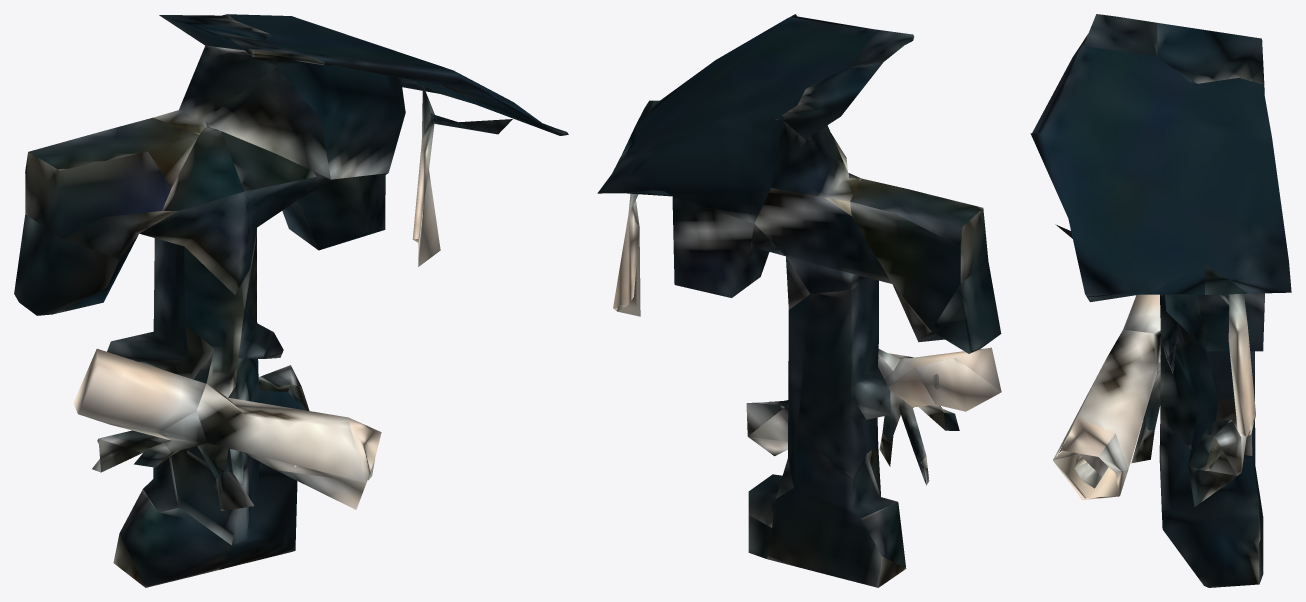
The picture shows the model from 3 angles, left to right: view 1: azimuth 30°, elevation 25°; view 2: azimuth 150°, elevation 25°; view 3: azimuth 270°, elevation 25°; orthographic projection. The views are drawn at different scales.
Visible parts, largest first — view 1: Graduation-T; view 2: Graduation-T; view 3: Graduation-T.
Boxes of the visible parts, x1=… form: Graduation-T: x1=14, y1=14, x2=568, y2=587; Graduation-T: x1=597, y1=14, x2=1001, y2=587; Graduation-T: x1=1030, y1=14, x2=1291, y2=587.
Size of the model in its own units: 0.2616 by 0.3023 by 0.1353.
Materials: 1 (1 with a texture image).
